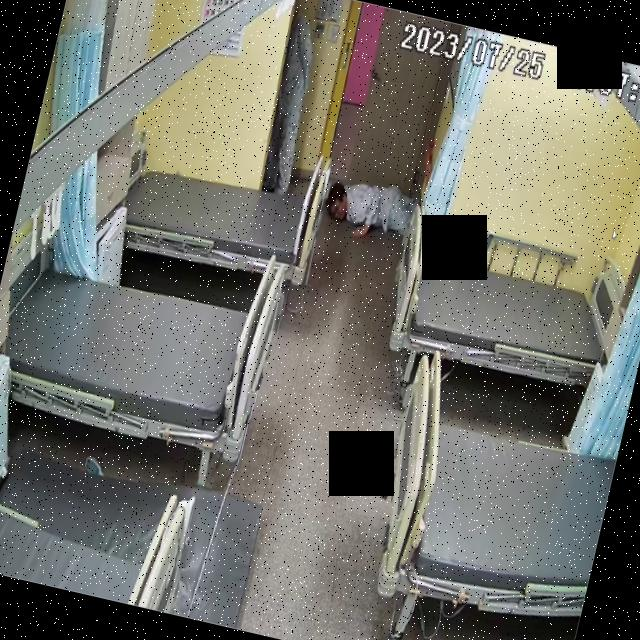bed: (362, 346, 630, 634), (0, 249, 279, 457), (378, 230, 632, 398), (117, 147, 323, 286)
fall: (323, 168, 425, 252)
patient: (255, 4, 330, 194), (321, 162, 426, 252)
